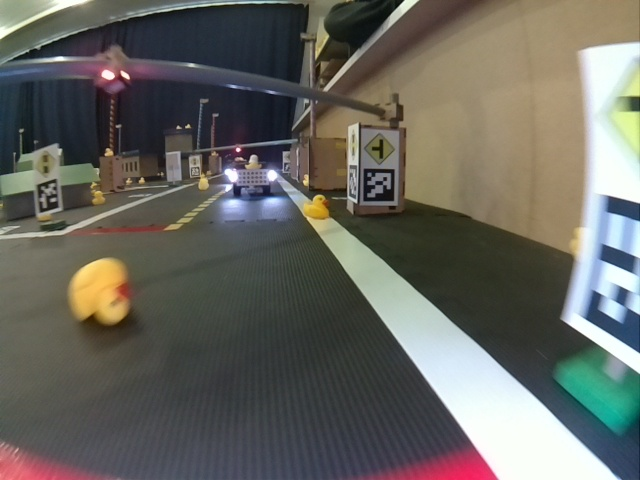Duckie: (70, 258, 130, 323), (304, 195, 327, 219), (245, 155, 261, 170), (198, 178, 208, 189), (97, 191, 105, 202)
Duckiebot: (228, 165, 274, 194)
Intersection sign: (363, 130, 397, 166)
QR code: (581, 196, 635, 356), (363, 168, 397, 204), (346, 168, 356, 199)
Signal sign: (33, 147, 58, 177), (349, 126, 359, 162)
Traffic light: (99, 47, 128, 91)
